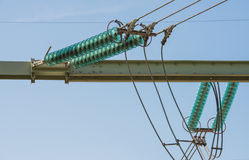isolator: (44, 27, 146, 69), (186, 82, 240, 131)
